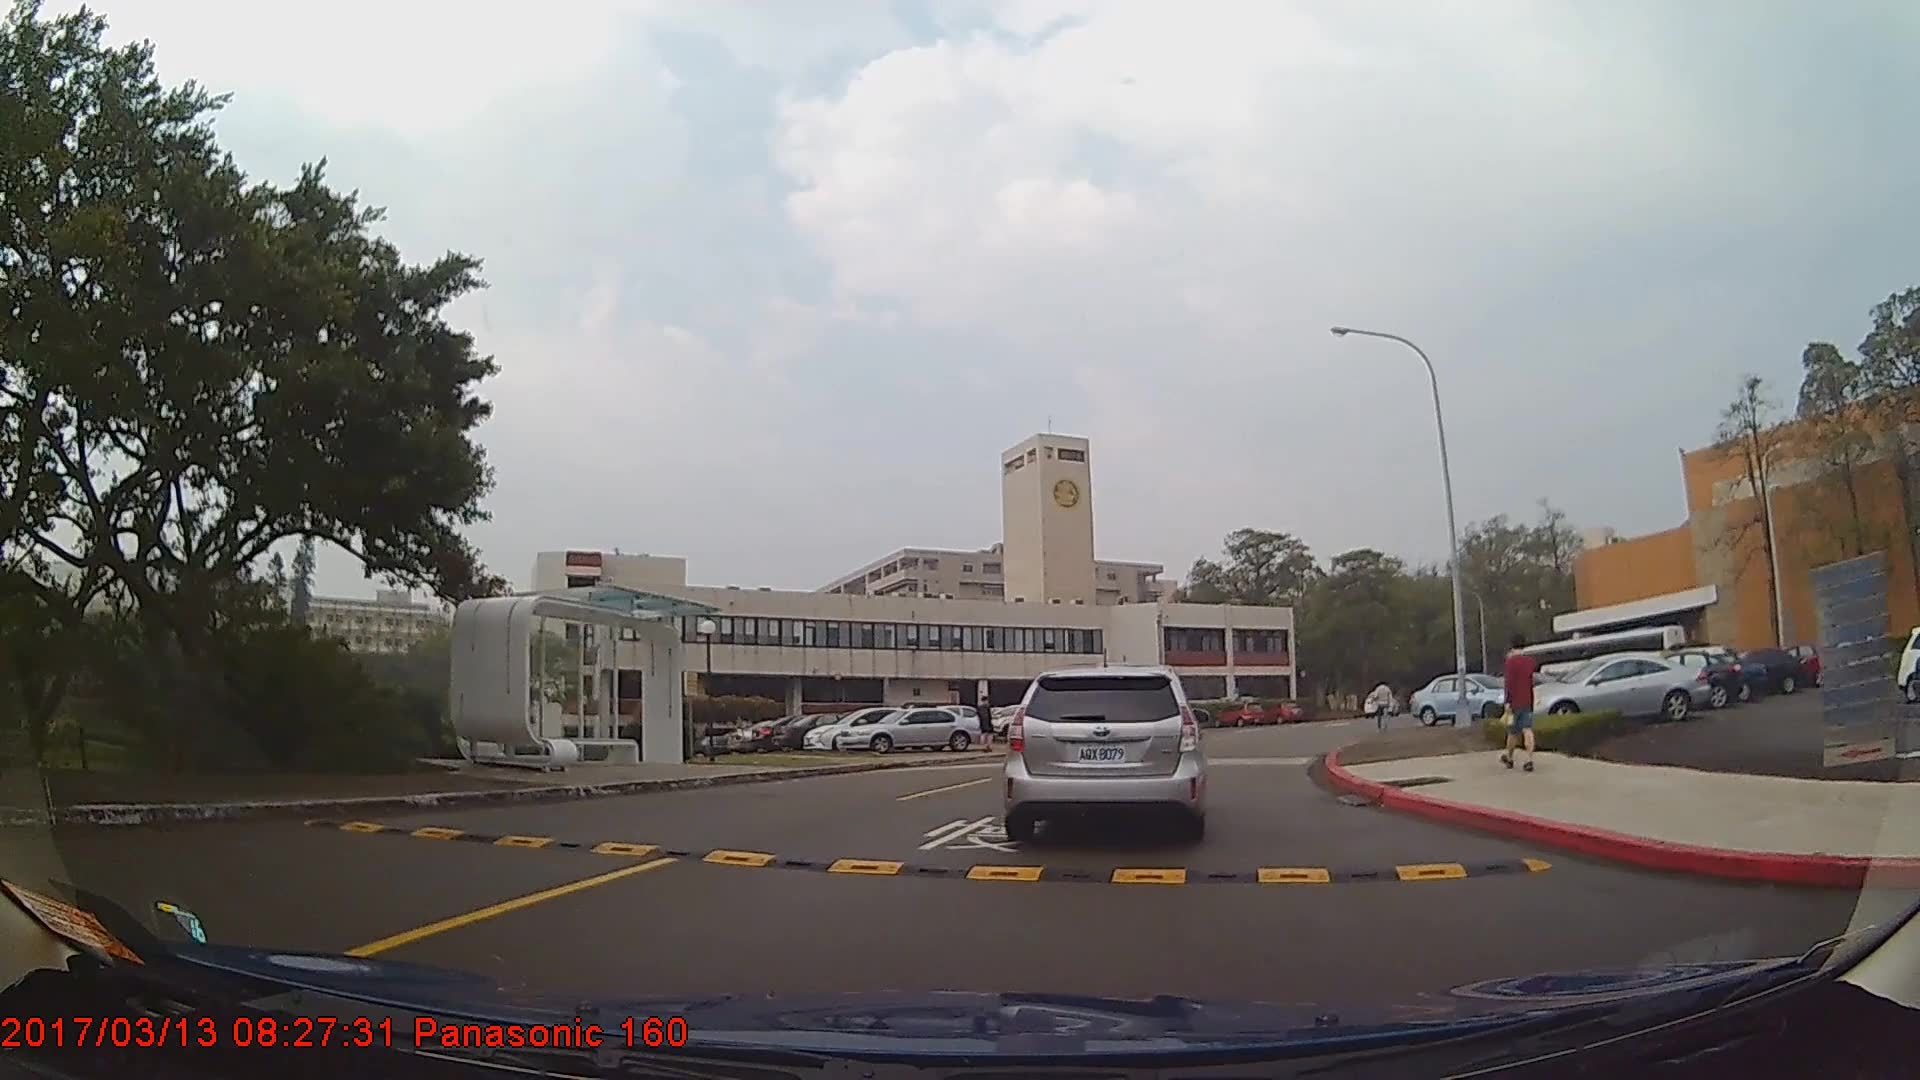pedestrian: (1498, 629, 1541, 769), (1369, 676, 1397, 734), (978, 695, 998, 754)
vehicle: (1006, 663, 1205, 840), (1524, 651, 1708, 723), (834, 705, 982, 752), (1628, 649, 1742, 708), (799, 703, 932, 748), (1660, 648, 1767, 700), (1406, 673, 1512, 724), (1706, 643, 1807, 693), (772, 710, 867, 748)
